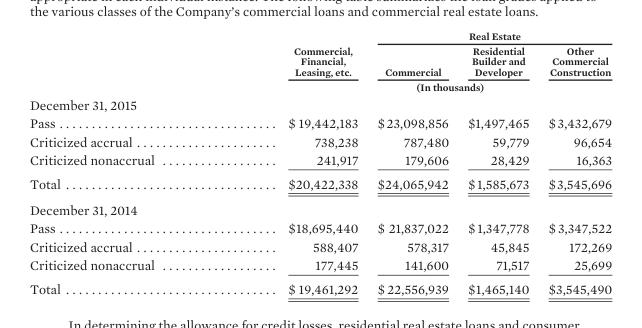table: (28, 29, 611, 296)
table column: (28, 29, 220, 296), (220, 29, 367, 296), (367, 29, 457, 296), (457, 29, 538, 296), (538, 29, 611, 296)
table column header: (28, 29, 611, 94)
table projected row header: (28, 196, 611, 218), (28, 94, 611, 113)
table row: (28, 43, 611, 78), (28, 171, 611, 196), (28, 196, 611, 218), (28, 150, 611, 171), (28, 255, 611, 276), (28, 276, 611, 296), (28, 94, 611, 113), (28, 131, 611, 150), (28, 218, 611, 237), (28, 113, 611, 131), (28, 237, 611, 255), (28, 78, 611, 94), (28, 29, 611, 43)
table spanning cell: (220, 29, 367, 78), (220, 78, 611, 94), (367, 29, 611, 43)
